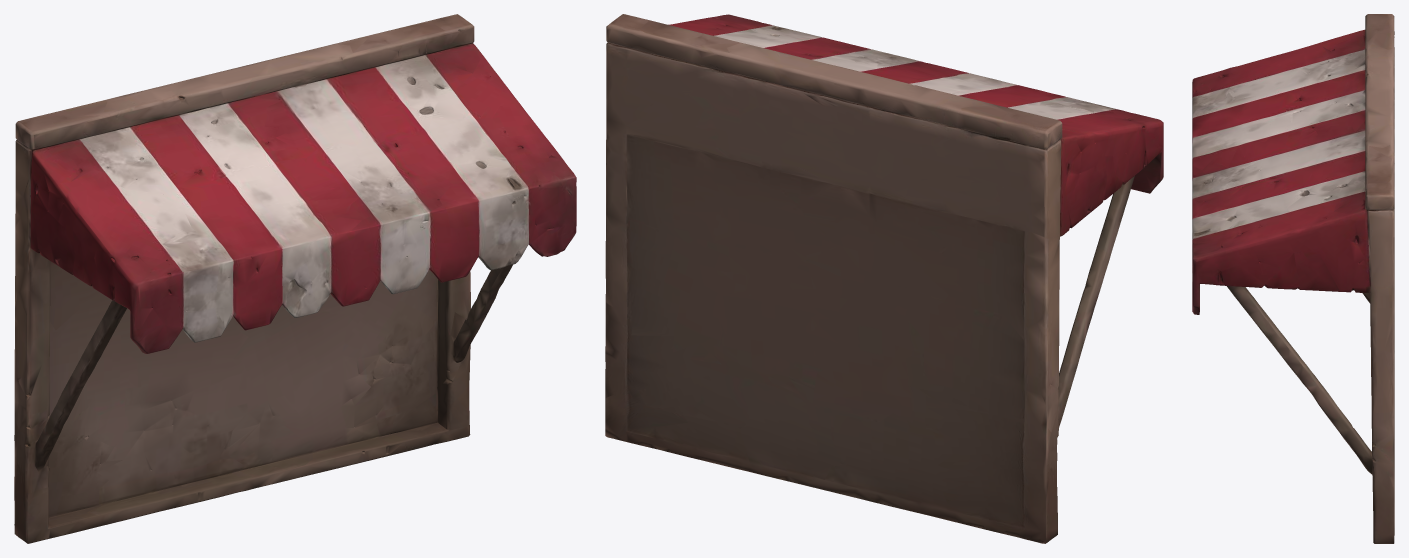
File: awning_striped_idle.glb
3 renders of one model, left to right at view 1: azimuth 30°, elevation 25°; view 2: azimuth 150°, elevation 25°; view 3: azimuth 270°, elevation 25°, orthographic. The views are drawn at different scales.
Visible parts, largest first — view 1: tripo_node_db98212a-177c-47b8-bf87-c50bfdce3fc3; view 2: tripo_node_db98212a-177c-47b8-bf87-c50bfdce3fc3; view 3: tripo_node_db98212a-177c-47b8-bf87-c50bfdce3fc3.
Part boxes in pixels (box(x1,y1,x2,y2)): tripo_node_db98212a-177c-47b8-bf87-c50bfdce3fc3: box(14, 14, 576, 543); tripo_node_db98212a-177c-47b8-bf87-c50bfdce3fc3: box(605, 14, 1163, 543); tripo_node_db98212a-177c-47b8-bf87-c50bfdce3fc3: box(1192, 14, 1394, 543).
Size of the model in its own units: 2.8 by 2.5 by 1.31.
1 material, 1 textured.
